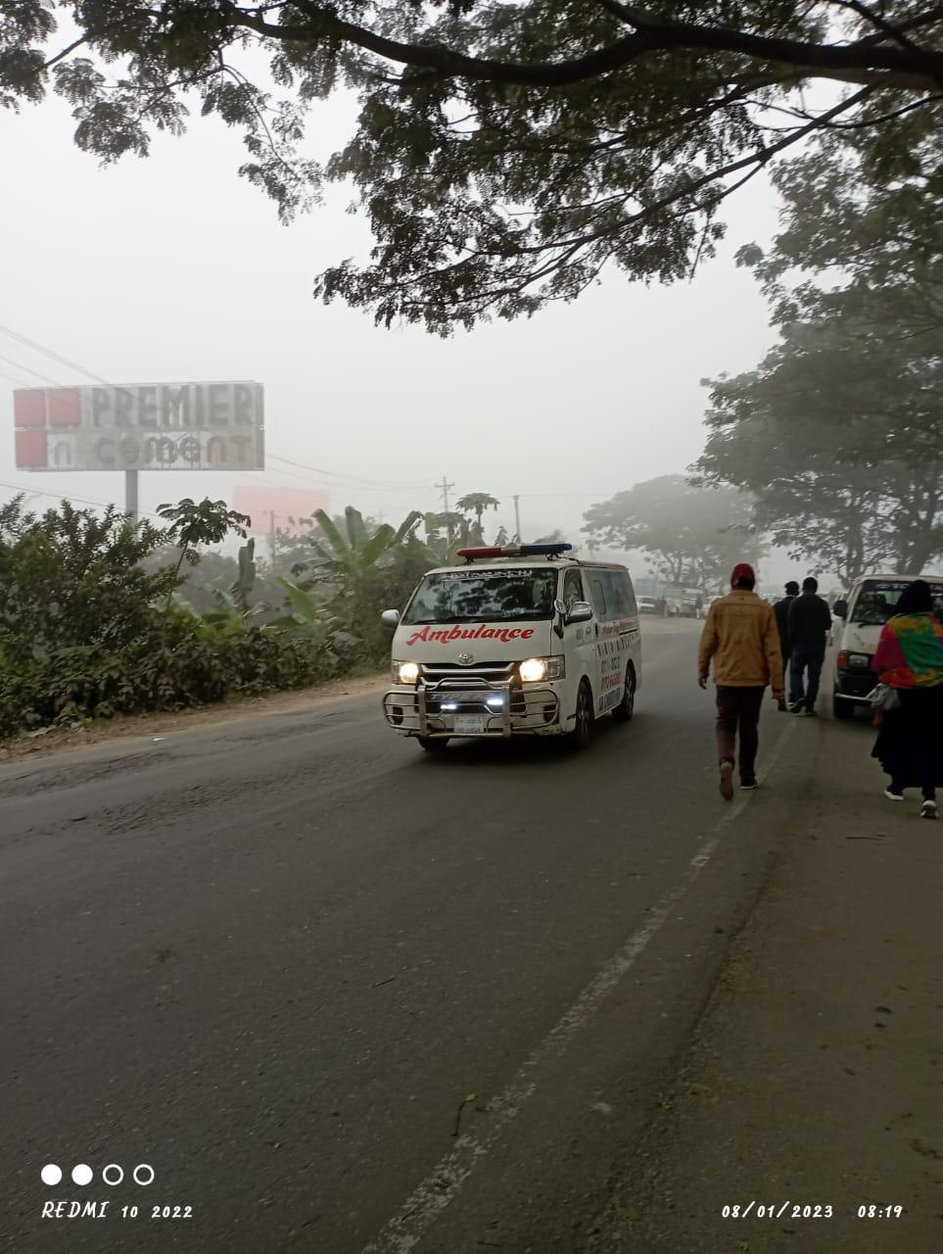Car: (373, 540, 644, 752), (815, 573, 943, 737)
